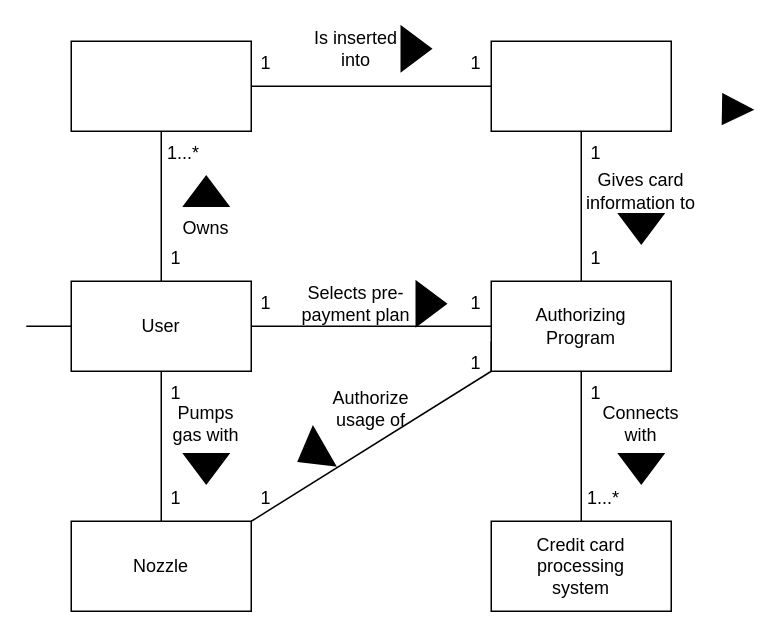
Some shapes in this 780 by 638 pixel diagram are drawn without their labels. The centre of each missing label's shape, as x and y in pixels:
"Card Reader" goes at pixel 580 85.
"Credit Card" goes at pixel 160 85.
